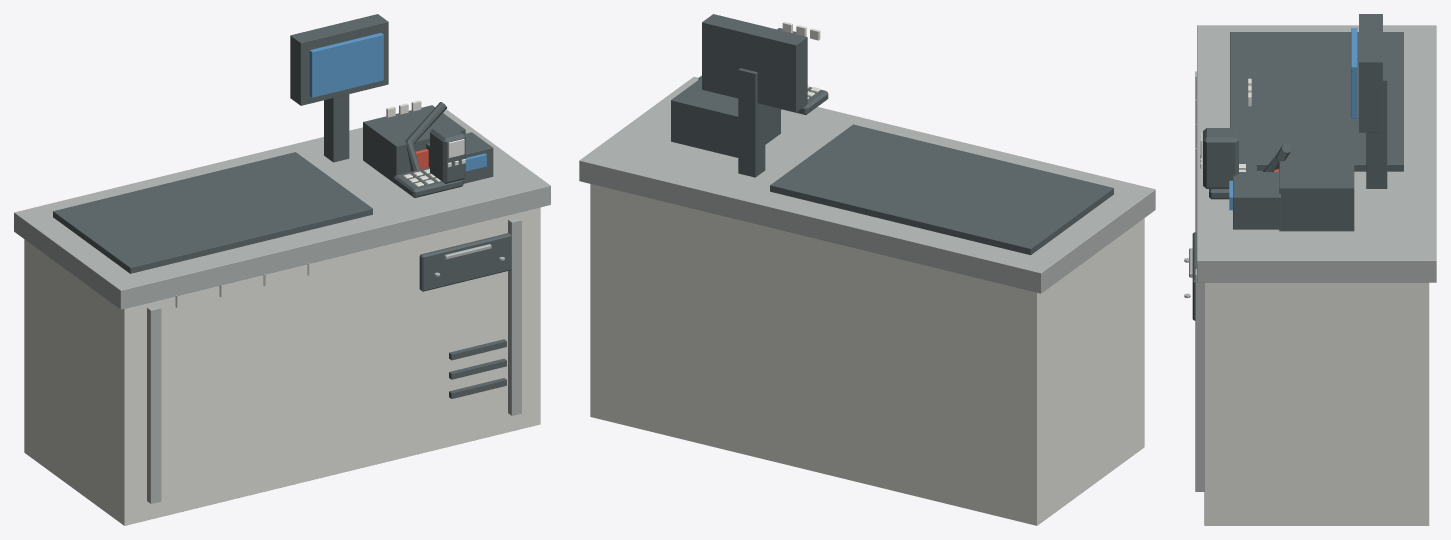
The model's file is Checkout_POS.fbx.
3 renders of one model, left to right at view 1: azimuth 30°, elevation 25°; view 2: azimuth 150°, elevation 25°; view 3: azimuth 270°, elevation 25°, orthographic. The views are drawn at different scales.
Visible parts, largest first — view 1: Checkout_POS__LPCXFER; view 2: Checkout_POS__LPCXFER; view 3: Checkout_POS__LPCXFER.
Part boxes in pixels (x1,y1,x2,y2): Checkout_POS__LPCXFER: (14,14,550,525); Checkout_POS__LPCXFER: (579,14,1155,525); Checkout_POS__LPCXFER: (1184,14,1436,525).
Size of the model in its own units: 186 by 154 by 84.26.
